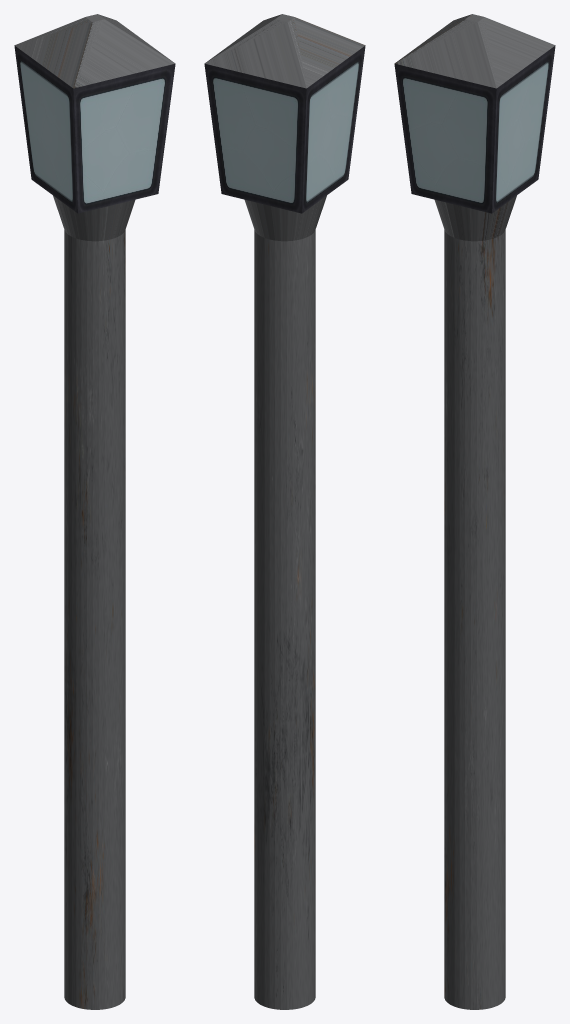
Rendered from lamp.glb.
3 views of the same model, side by side, from view 1: azimuth 30°, elevation 25°; view 2: azimuth 150°, elevation 25°; view 3: azimuth 330°, elevation 25° (orthographic).
Bounding box in the file's own units: 0.8813 × 8.07 × 0.8813.
Materials: 2 (2 with a texture image).
